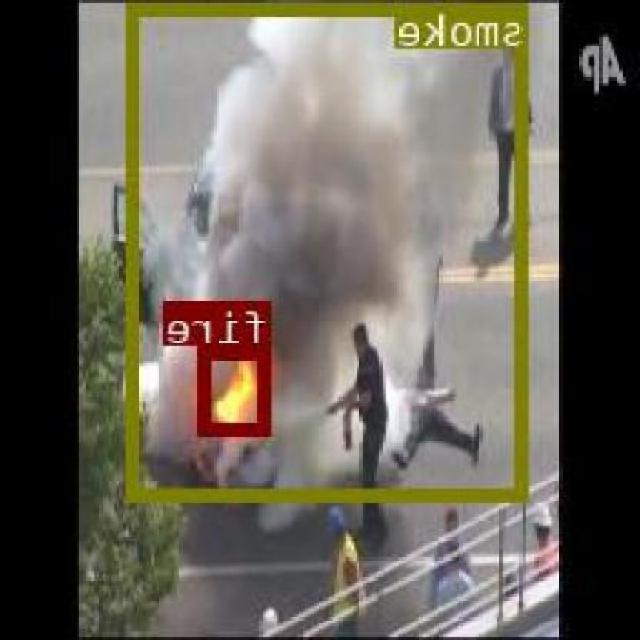Fire: (202, 346, 275, 434)
Smoke: (128, 0, 530, 500)
